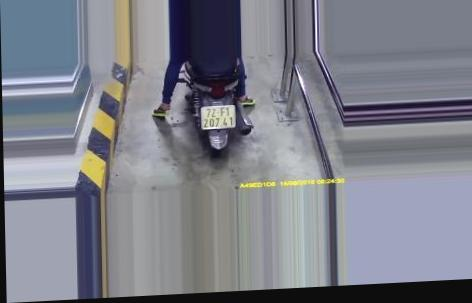License_Plate: (198, 102, 240, 135)
